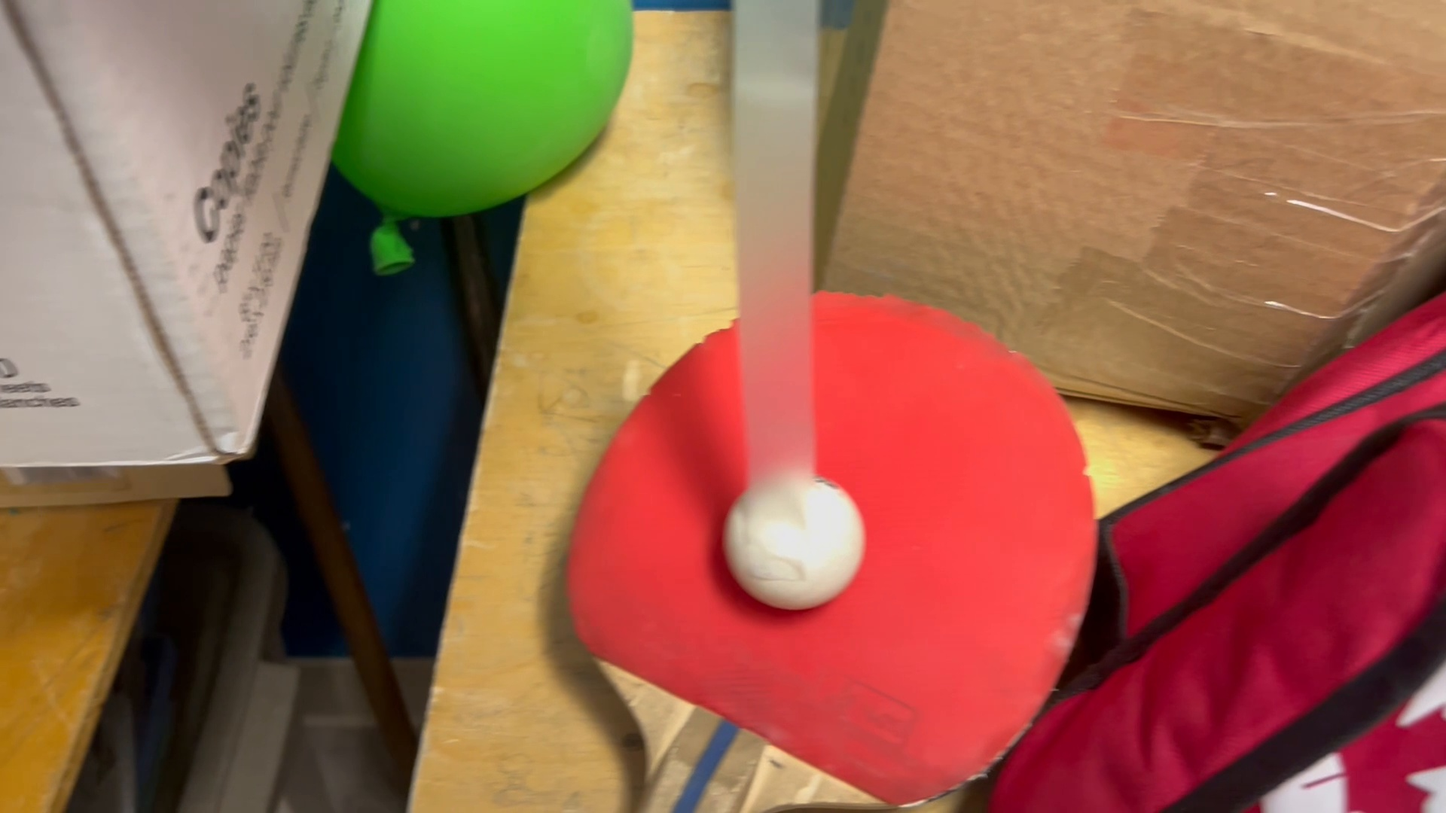Ball: (718, 466, 876, 605)
